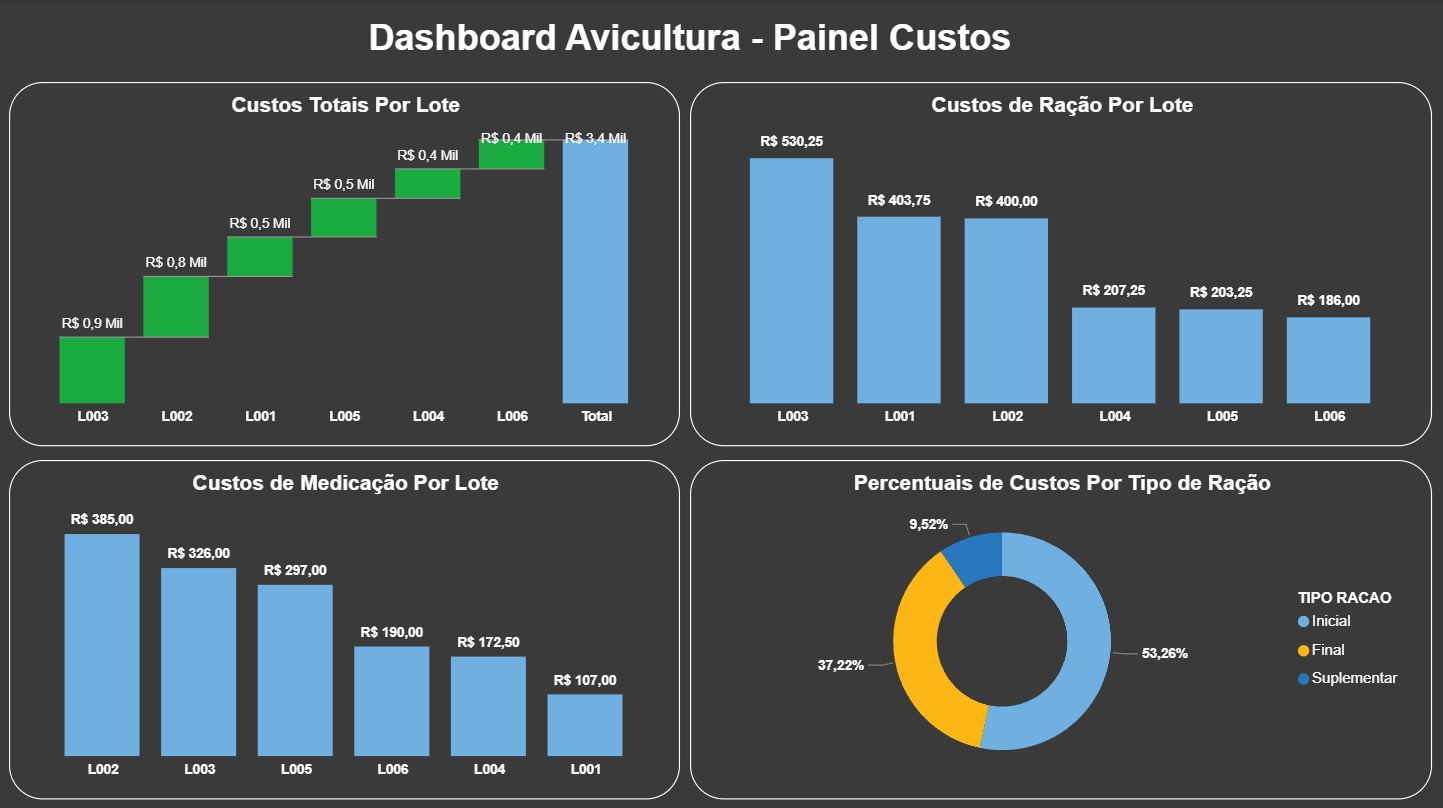

What the dashboard file says about the page in this screenshot:
{"tool":"powerbi","page":{"name":"Custos","canvas":[1280,720],"ordinal":2},"visuals":[{"type":"columnChart","title":"Custos de Medicação Por Lote","fields":{"Y":["Sum(Medicacao.CUSTO TOTAL)"],"Category":["Medicacao.ID LOTE"]},"box":[7.8,408.5,595.3,300.5],"z":0},{"type":"donutChart","title":"Percentuais de Custos Por Tipo de Ração","fields":{"Category":["Racao.TIPO RACAO"],"Y":["Sum(Racao.CUSTO TOTAL)"]},"box":[611.8,408.5,658.5,300.5],"z":1000},{"type":"lineStackedColumnComboChart","title":"Custos de Ração Por Lote","fields":{"Category":["Racao.ID LOTE"],"Y":["Sum(Racao.CUSTO TOTAL)"]},"box":[611.8,73.9,658.5,322.9],"z":2000},{"type":"waterfallChart","title":"Custos Totais Por Lote","fields":{"Category":["Lote.ID LOTE"],"Y":["TabelaMedidas.CustoAcumulado"]},"box":[7.8,73.9,595.3,322.9],"z":3000},{"type":"textbox","box":[316.1,11.7,590.4,46.7],"z":3001}]}

Visuals, with their boxes in screenshot pixels (x1, y1, x2, y2), scaled from the page's 1280x720 canvas onto the 1443x808 screenshot:
"Custos de Medicação Por Lote" columnChart: rect(9, 458, 680, 796)
"Percentuais de Custos Por Tipo de Ração" donutChart: rect(690, 458, 1432, 796)
"Custos de Ração Por Lote" lineStackedColumnComboChart: rect(690, 83, 1432, 445)
"Custos Totais Por Lote" waterfallChart: rect(9, 83, 680, 445)
textbox: rect(356, 13, 1022, 66)
